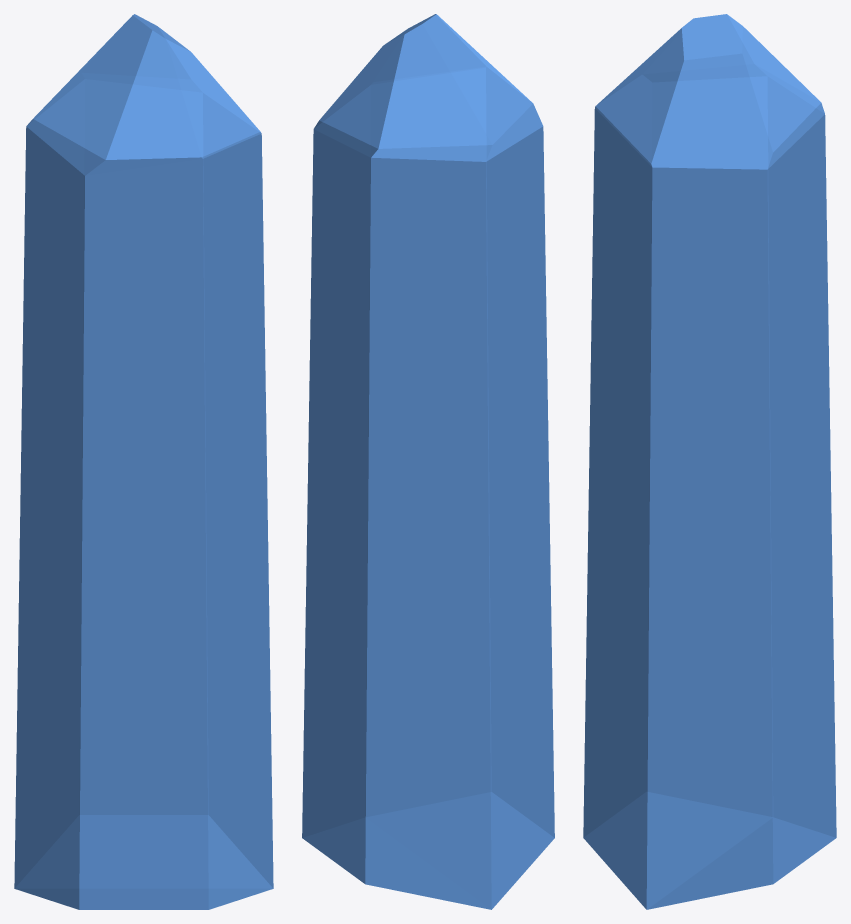
Rendered from Crystal_m_02.fbx.
3 views of the same model, side by side, from view 1: azimuth 30°, elevation 25°; view 2: azimuth 150°, elevation 25°; view 3: azimuth 270°, elevation 25° (orthographic). The views are drawn at different scales.
Parts seen in each view (by area): view 1: Crystal_m_02; view 2: Crystal_m_02; view 3: Crystal_m_02.
Boxes of the visible parts, x1,y1,x2,y2 form: Crystal_m_02: (14, 14, 273, 909); Crystal_m_02: (302, 14, 554, 909); Crystal_m_02: (583, 14, 836, 909).
Size of the model in its own units: 0.4254 by 1.82 by 0.4913.
